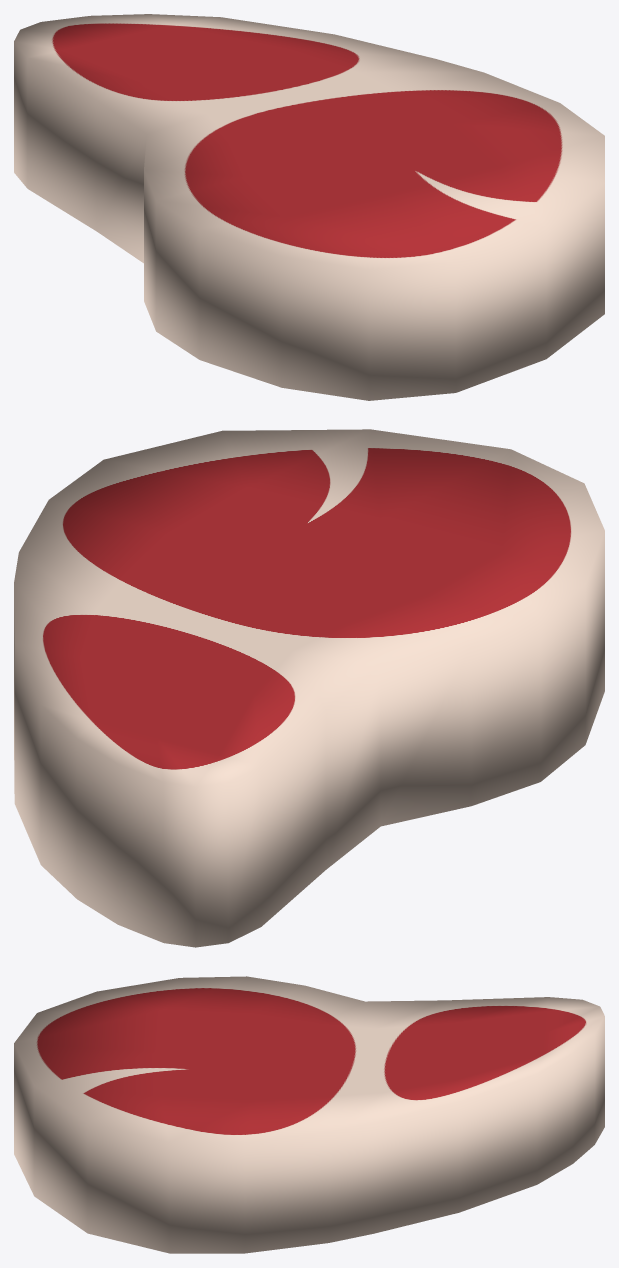
Rendered from steak.glb.
The picture shows the model from 3 angles, top to bottom: view 1: azimuth 30°, elevation 25°; view 2: azimuth 150°, elevation 25°; view 3: azimuth 270°, elevation 25°; orthographic projection. The views are drawn at different scales.
Parts seen in each view (by area): view 1: Steak; view 2: Steak; view 3: Steak.
Boxes of the visible parts, left/top/right/bottom form: Steak: left=14, top=14, right=604, bottom=400; Steak: left=14, top=429, right=604, bottom=947; Steak: left=14, top=976, right=604, bottom=1253.
Size of the model in its own units: 3.25 by 1.01 by 4.88.
Materials: 1 (1 with a texture image).
